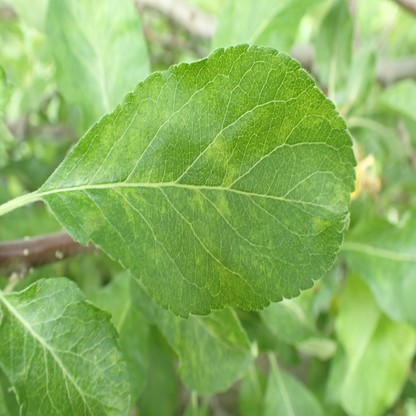scab: (100, 123, 164, 232), (206, 142, 234, 186), (214, 192, 232, 217), (83, 211, 105, 229), (188, 190, 205, 213), (311, 217, 330, 233)
